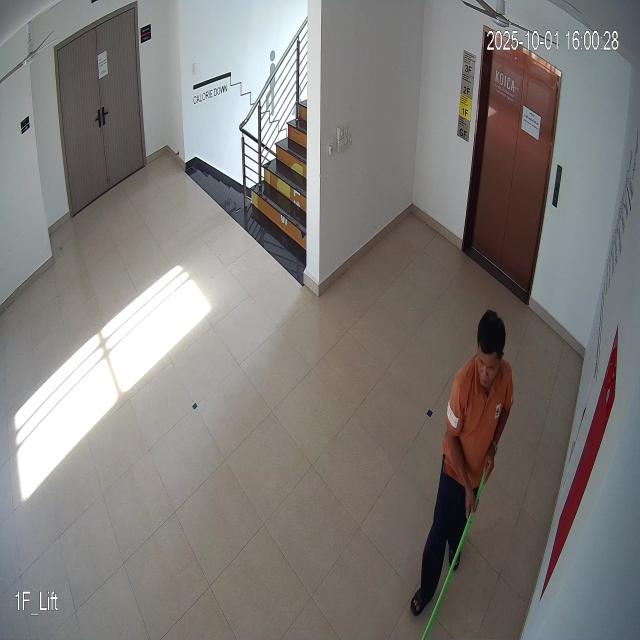face: (468, 302, 512, 397)
